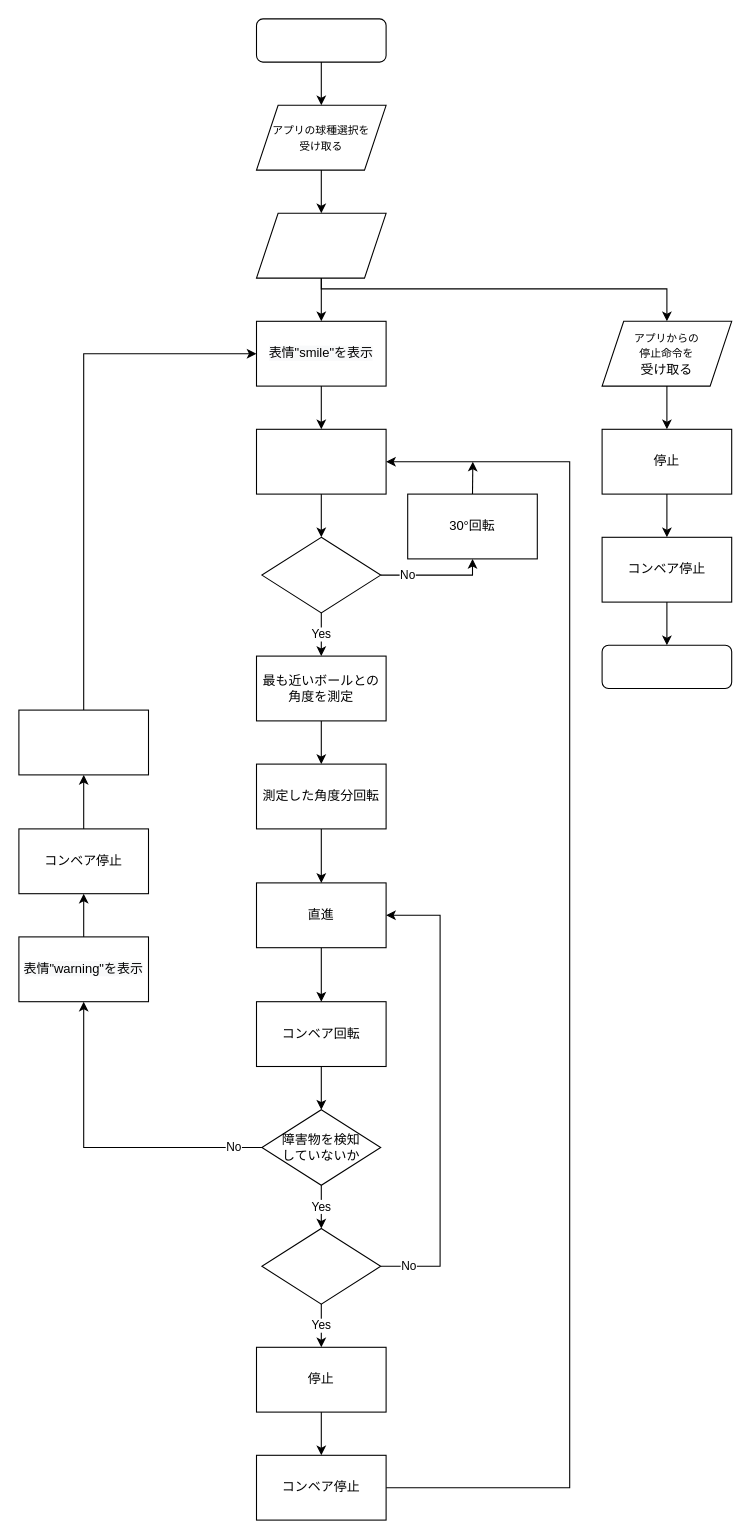
Some shapes in this 751 by 1539 pixel diagram are drawn without their labels. The centre of each missing label's shape, as x and y in pixels:
"180°回転" goes at [83,742].
"アプリからの 動作命令を 受け取る" goes at [320,245].
"ボールを検知 したか" goes at [321,574].
"終了" goes at [666,666].
"規定された値 直進したか" goes at [321,1265].
"選択したボールを 画像認識" goes at [320,461].
"開始" goes at [320,40].
